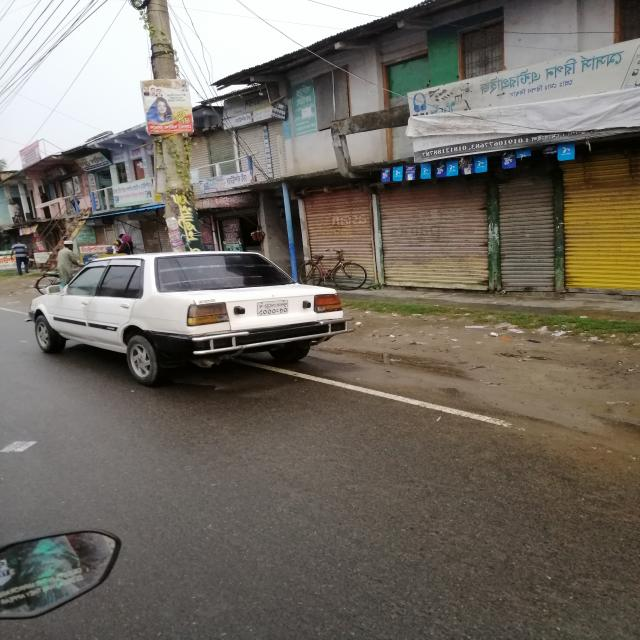Bicycle: (296, 254, 370, 291)
Car: (27, 251, 353, 389)
